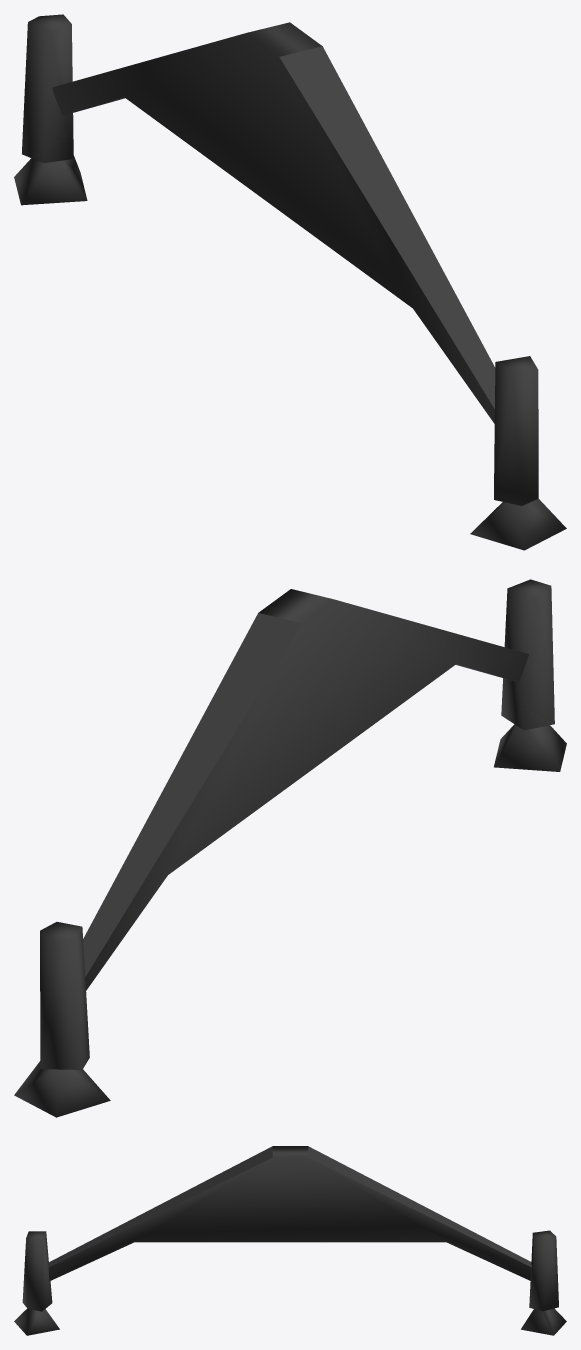
The model's file is bench_support_hull.fbx.
3 views of the same model, one above another, from view 1: azimuth 30°, elevation 25°; view 2: azimuth 150°, elevation 25°; view 3: azimuth 270°, elevation 25° (orthographic). The views are drawn at different scales.
Parts seen in each view (by area): view 1: bench support.001; view 2: bench support.001; view 3: bench support.001.
Boxes of the visible parts, x1,y1,x2,y2 form: bench support.001: [14, 14, 566, 550]; bench support.001: [14, 579, 566, 1117]; bench support.001: [14, 1146, 566, 1335].
Size of the model in its own units: 5.05 by 19.76 by 57.02.
